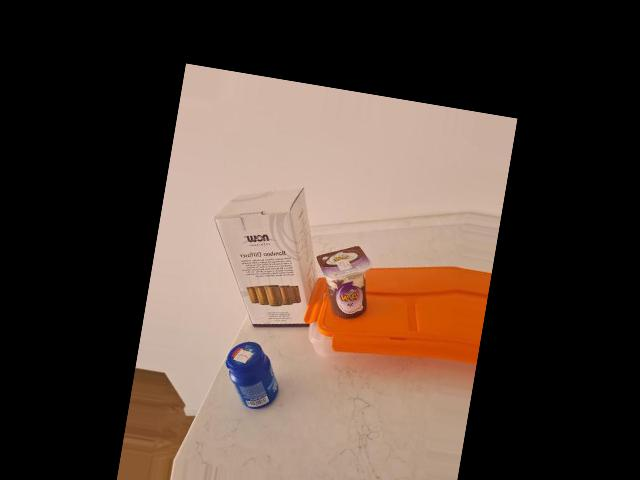milky: (305, 239, 376, 323)
